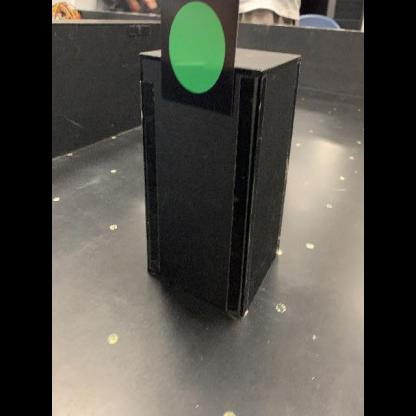go: (159, 1, 241, 118)
